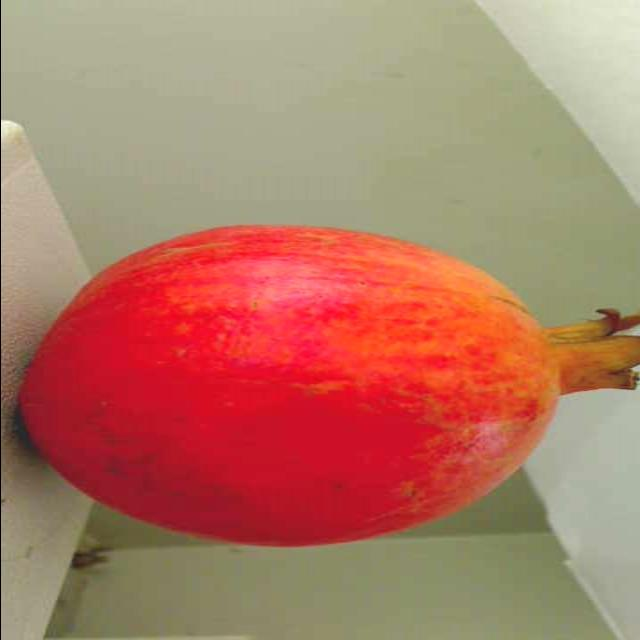pomegranate: (0, 213, 640, 563)
